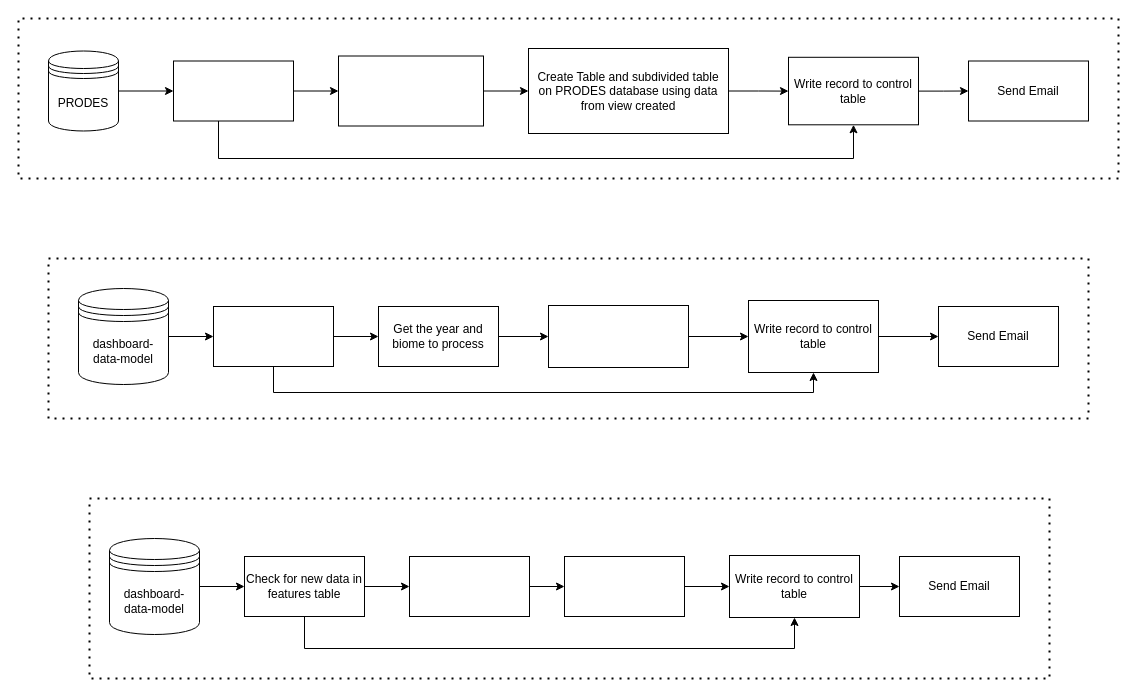
Image size: 1137x697. Some labels were removed from this diagram. The box of each missing label's shape, as (x1, y1, x2, y2) in pixels:
Check for new data: (172, 60, 294, 121)
Check for new data in subdivided table: (212, 306, 334, 366)
Get data from table and create a view using SQLVIEW + DBlink: (338, 55, 484, 126)
Make generation of config json files: (408, 556, 530, 616)
Make generation of data json files: (564, 556, 684, 616)
write data on features table: (548, 304, 688, 368)
